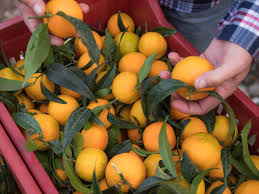orange: (171, 54, 217, 102), (42, 1, 87, 41), (107, 150, 146, 190), (109, 72, 141, 103)
